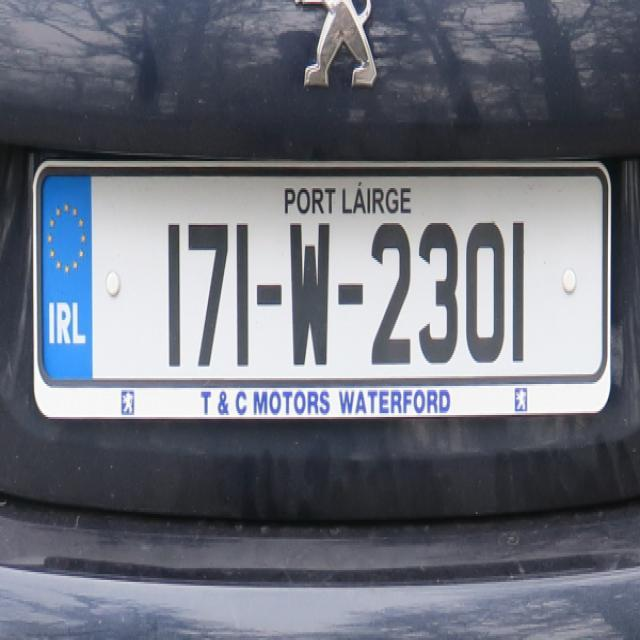0: (462, 214, 510, 366)
1: (507, 196, 537, 376), (228, 210, 256, 384)
3: (413, 197, 462, 377)
7: (185, 202, 228, 372)
I: (158, 208, 188, 378)
W: (288, 201, 338, 380)
